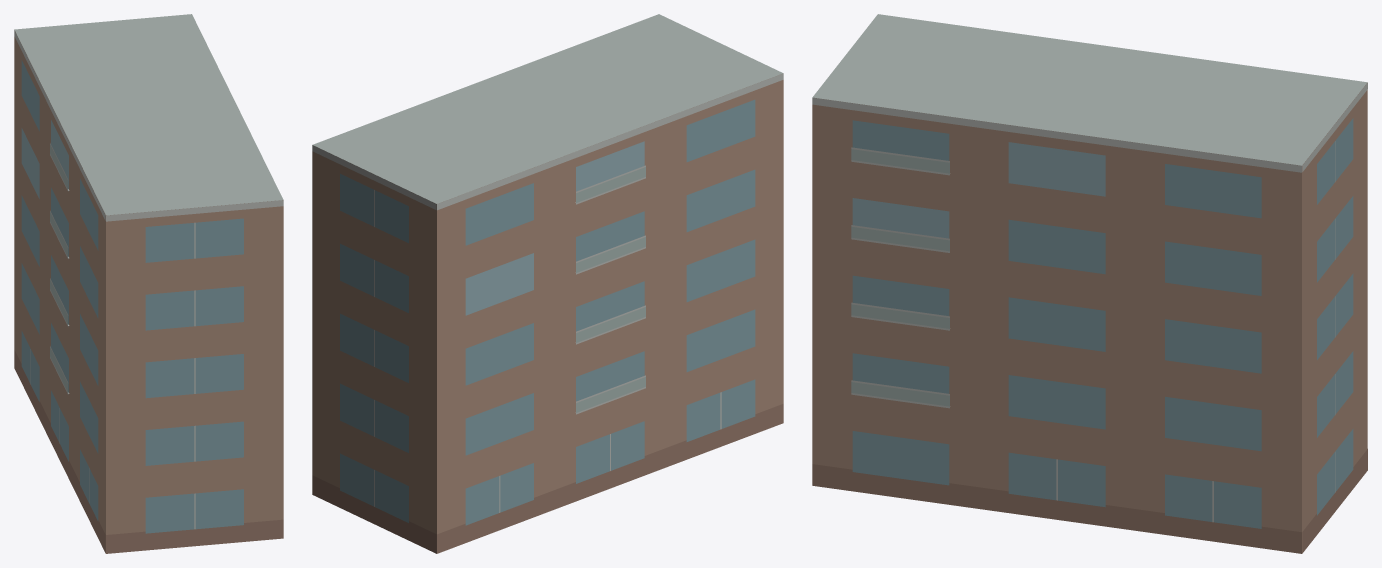
Rendered from survey-upis-32705374.glb.
The picture shows the model from 3 angles, left to right: view 1: azimuth 30°, elevation 25°; view 2: azimuth 150°, elevation 25°; view 3: azimuth 270°, elevation 25°; orthographic projection. The views are drawn at different scales.
Visible parts, largest first — view 1: survey-upis-32705374.tmp; view 2: survey-upis-32705374.tmp; view 3: survey-upis-32705374.tmp.
Boxes of the visible parts, <box> form: survey-upis-32705374.tmp: <box>14,14,283,553</box>; survey-upis-32705374.tmp: <box>312,14,783,553</box>; survey-upis-32705374.tmp: <box>812,14,1367,553</box>.
Size of the model in its own units: 11.19 by 13.35 by 17.32.
